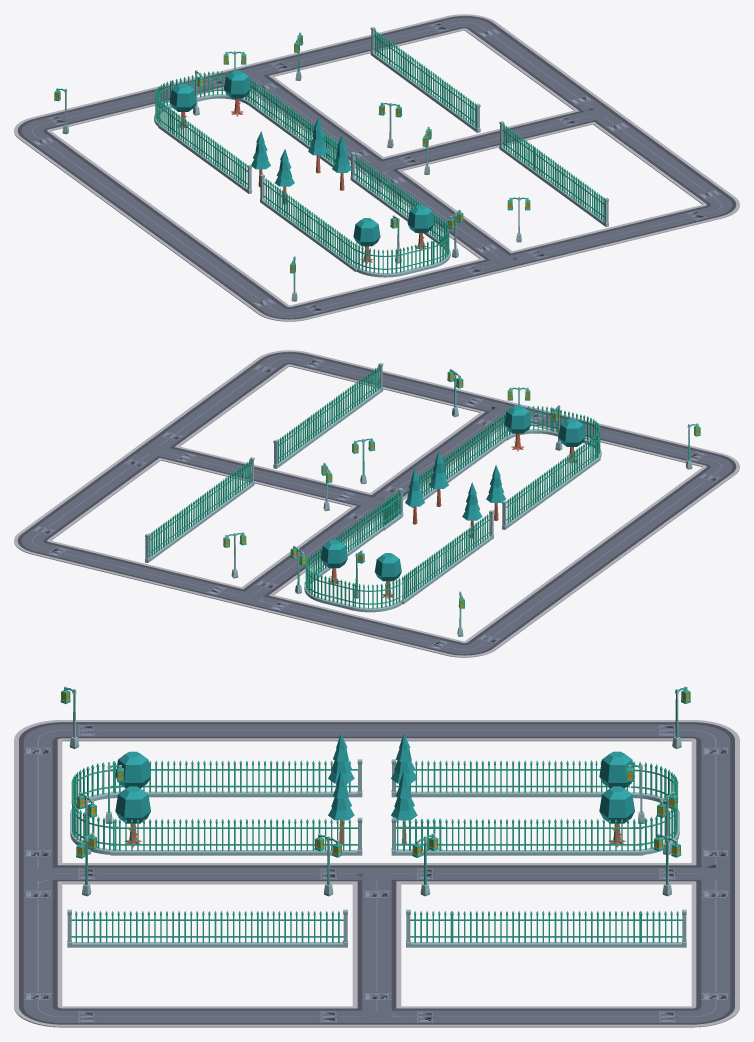
Rendered from mapa.obj.
The picture shows the model from 3 angles, top to bottom: view 1: azimuth 30°, elevation 25°; view 2: azimuth 150°, elevation 25°; view 3: azimuth 270°, elevation 25°; orthographic projection. The views are drawn at different scales.
Visible parts, largest first — view 1: ironFenceBorderCurve.007, tree_oak_dark.005, tree_oak_dark.008, tree_oak_dark.007, tree_oak_dark.006, road_straight.010_road_straight.145, road_straight.006_road_straight.117, road_straight.008_road_straight.119, road_straight.025_road_straight.141, road_straight.024_road_straight.140, road_straight.003_road_straight.143, road_straight.022_road_straight.147 (+72 smaller); view 2: ironFenceBorderCurve.005, tree_oak_dark.008, tree_oak_dark.005, tree_oak_dark.006, ironFenceBorder.035_ironFenceBorder.007, tree_oak_dark.007, road_straight.028_road_straight.149, road_straight.006_road_straight.117, road_straight.007_road_straight.118, road_straight.025_road_straight.141, road_straight.023_road_straight.139, road_straight.003_road_straight.143 (+75 smaller); view 3: tree_oak_dark.008, tree_oak_dark.005, road_straight.014_road_straight.132, road_intersection.001_road_intersection.005, road_straight.018_road_straight.134, road_straight.031_road_straight.155, road_straight.016_road_straight.153, road_straight.038_road_straight.162, road_straight.040_road_straight.164, road_straight.049_road_straight.176, road_straight.044_road_straight.168, road_crossing.003_road_crossing.004 (+108 smaller).
Part boxes in pixels (box(x1,y1,x2,y2)): ironFenceBorderCurve.007: box(354, 243, 402, 277); tree_oak_dark.005: box(224, 70, 250, 116); tree_oak_dark.008: box(407, 205, 434, 250); tree_oak_dark.007: box(353, 218, 380, 264); tree_oak_dark.006: box(169, 83, 196, 129); road_straight.010_road_straight.145: box(385, 274, 435, 296); road_straight.006_road_straight.117: box(383, 24, 432, 45); road_straight.008_road_straight.119: box(319, 39, 368, 61); road_straight.025_road_straight.141: box(640, 212, 689, 233); road_straight.024_road_straight.140: box(608, 220, 657, 241); road_straight.003_road_straight.143: box(321, 290, 371, 311); road_straight.022_road_straight.147: box(64, 102, 114, 123); ironFenceBorderCurve.005: box(354, 578, 401, 612); tree_oak_dark.008: box(504, 405, 531, 451); tree_oak_dark.005: box(320, 540, 347, 585); tree_oak_dark.006: box(374, 553, 401, 599); ironFenceBorder.035_ironFenceBorder.007: box(322, 576, 354, 610); tree_oak_dark.007: box(558, 418, 585, 464); road_straight.028_road_straight.149: box(318, 610, 368, 632); road_straight.006_road_straight.117: box(64, 548, 113, 569); road_straight.007_road_straight.118: box(96, 556, 145, 577); road_straight.025_road_straight.141: box(321, 360, 370, 381); road_straight.023_road_straight.139: box(385, 375, 434, 397); road_straight.003_road_straight.143: box(639, 438, 688, 459); tree_oak_dark.008: box(115, 786, 150, 847); tree_oak_dark.005: box(599, 786, 634, 847); road_straight.014_road_straight.132: box(594, 1006, 643, 1027); road_intersection.001_road_intersection.005: box(352, 1006, 401, 1027); road_straight.018_road_straight.134: box(110, 1006, 159, 1027); road_straight.031_road_straight.155: box(594, 720, 643, 741); road_straight.016_road_straight.153: box(110, 720, 159, 741); road_straight.038_road_straight.162: box(594, 863, 643, 884); road_straight.040_road_straight.164: box(110, 863, 159, 884); road_straight.049_road_straight.176: box(352, 720, 401, 741); road_straight.044_road_straight.168: box(352, 965, 401, 986); road_crossing.003_road_crossing.004: box(401, 1006, 449, 1027).
Size of the model in its own units: 15 by 1.67 by 15.
